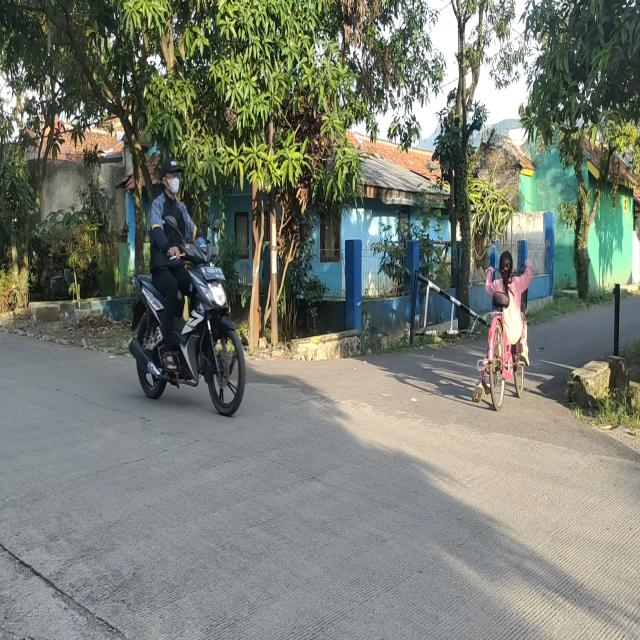no-helmet: (162, 159, 183, 202)
